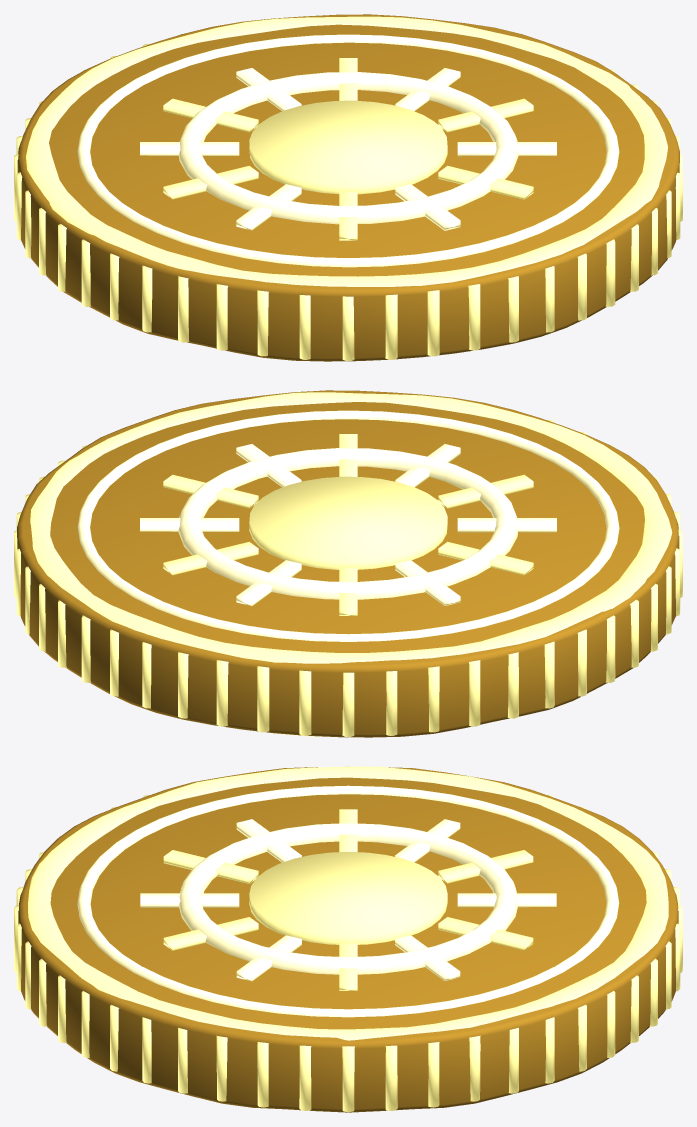
File: token-sun_bullion.glb
The picture shows the model from 3 angles, top to bottom: view 1: azimuth 30°, elevation 25°; view 2: azimuth 150°, elevation 25°; view 3: azimuth 270°, elevation 25°; orthographic projection.
Visible parts, largest first — view 1: TokenBody, TopRim, Cylinder, Torus.004, TopRim_Inner, Cube.010, Cube.011, Cube.005, Cube, Cube.004, Cube.006, Cube.009 (+22 smaller); view 2: TokenBody, TopRim, Cylinder, Torus.004, TopRim_Inner, Cube.007, Cube.008, Cube.001, Cube, Cube.006, Cube.002, Cube.003 (+22 smaller); view 3: TokenBody, TopRim, Cylinder, Torus.004, TopRim_Inner, Cube.009, Cube.003, Cube.008, Cube.010, Cube.004, Cube.002, Cube.011 (+23 smaller).
Boxes of the visible parts, x1=… form: TokenBody: x1=17, y1=14, x2=679, y2=361; TopRim: x1=26, y1=16, x2=667, y2=286; Cylinder: x1=249, y1=100, x2=447, y2=194; Torus.004: x1=179, y1=72, x2=518, y2=224; TopRim_Inner: x1=77, y1=34, x2=619, y2=267; Cube.010: x1=438, y1=165, x2=533, y2=199; Cube.011: x1=457, y1=142, x2=556, y2=156; Cube.005: x1=140, y1=142, x2=239, y2=155; Cube: x1=438, y1=98, x2=533, y2=132; Cube.004: x1=163, y1=98, x2=258, y2=132; Cube.006: x1=163, y1=165, x2=258, y2=199; Cube.009: x1=395, y1=184, x2=460, y2=230; TokenBody: x1=17, y1=390, x2=679, y2=737; TopRim: x1=30, y1=392, x2=672, y2=663; Cylinder: x1=249, y1=476, x2=447, y2=569; Torus.004: x1=178, y1=448, x2=517, y2=599; TopRim_Inner: x1=77, y1=410, x2=619, y2=641; Cube.007: x1=457, y1=518, x2=556, y2=532; Cube.008: x1=438, y1=474, x2=533, y2=508; Cube.001: x1=140, y1=518, x2=239, y2=531; Cube: x1=163, y1=474, x2=258, y2=508; Cube.006: x1=438, y1=541, x2=533, y2=575; Cube.002: x1=163, y1=541, x2=258, y2=575; Cube.003: x1=236, y1=560, x2=301, y2=605; TokenBody: x1=18, y1=767, x2=678, y2=1112; TopRim: x1=28, y1=766, x2=668, y2=1040; Cylinder: x1=249, y1=852, x2=447, y2=944; Torus.004: x1=179, y1=823, x2=517, y2=974; TopRim_Inner: x1=77, y1=785, x2=619, y2=1017; Cube.009: x1=140, y1=893, x2=239, y2=907; Cube.003: x1=457, y1=893, x2=556, y2=907; Cube.008: x1=163, y1=850, x2=258, y2=883; Cube.010: x1=163, y1=917, x2=258, y2=950; Cube.004: x1=438, y1=850, x2=533, y2=883; Cube.002: x1=438, y1=917, x2=533, y2=950; Cube.011: x1=236, y1=935, x2=301, y2=981.
Size of the model in its own units: 2.02 by 0.3181 by 2.02.
